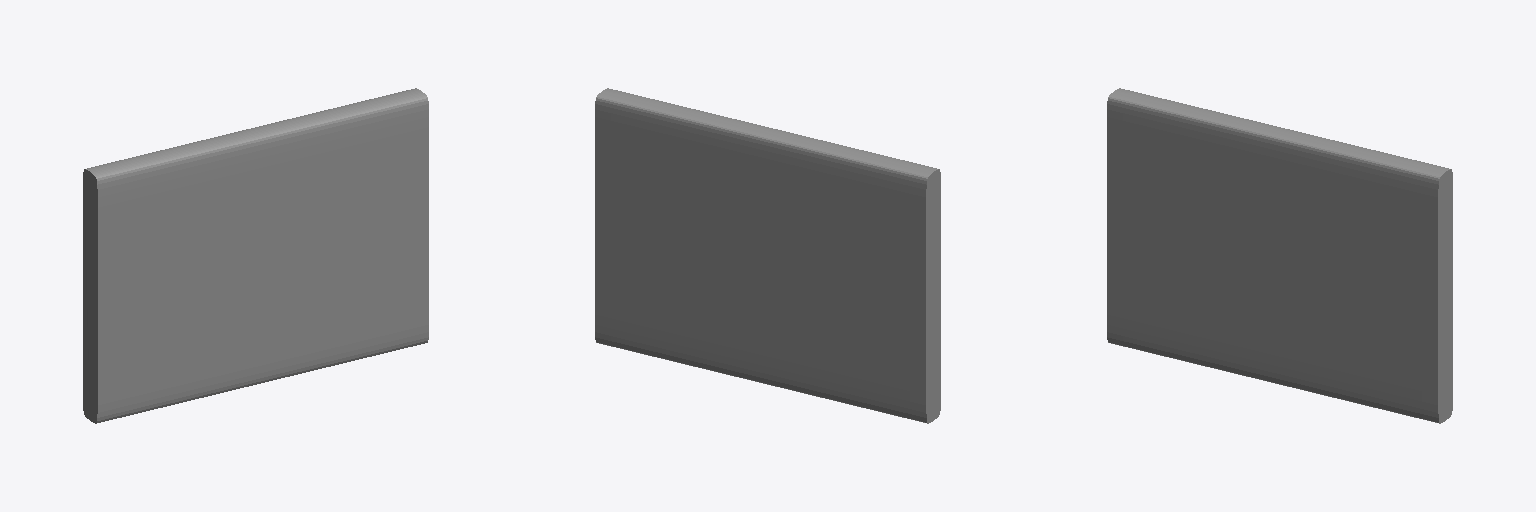
Rendered from table.obj.
The picture shows the model from 3 angles: view 1: azimuth 30°, elevation 25°; view 2: azimuth 150°, elevation 25°; view 3: azimuth 330°, elevation 25°; orthographic projection.
Visible parts, largest first — view 1: firstTable_Cube.001; view 2: firstTable_Cube.001; view 3: firstTable_Cube.001.
Boxes of the visible parts, <box> form: firstTable_Cube.001: <box>83,88,428,423</box>; firstTable_Cube.001: <box>595,88,940,423</box>; firstTable_Cube.001: <box>1107,88,1452,423</box>.
Bounding box in the file's own units: 2.14 × 1.54 × 0.1647.